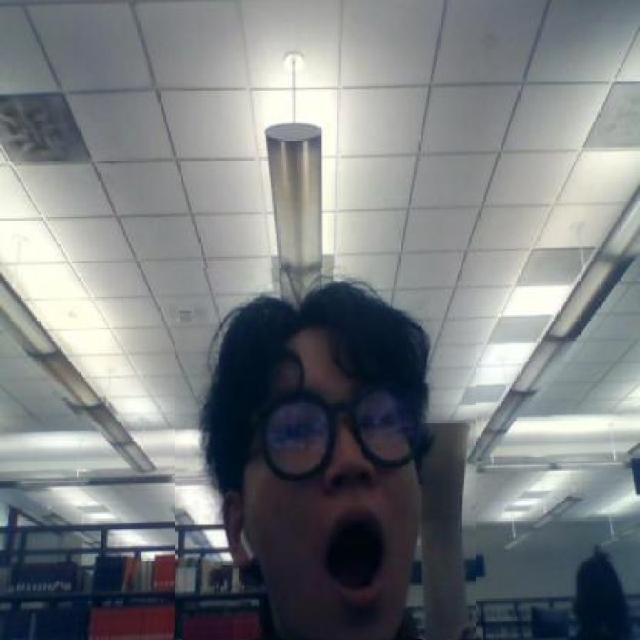Yawn: (175, 268, 476, 640)
